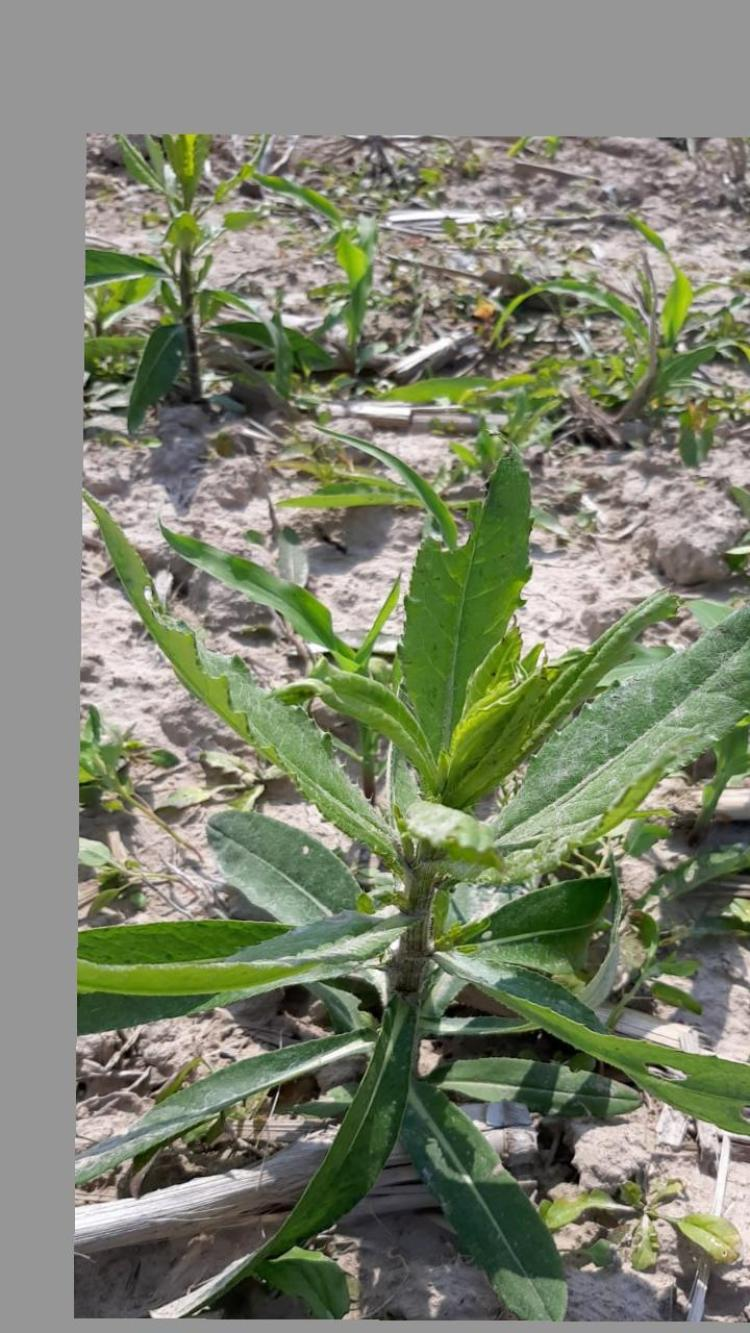osot: (71, 442, 750, 1314)
